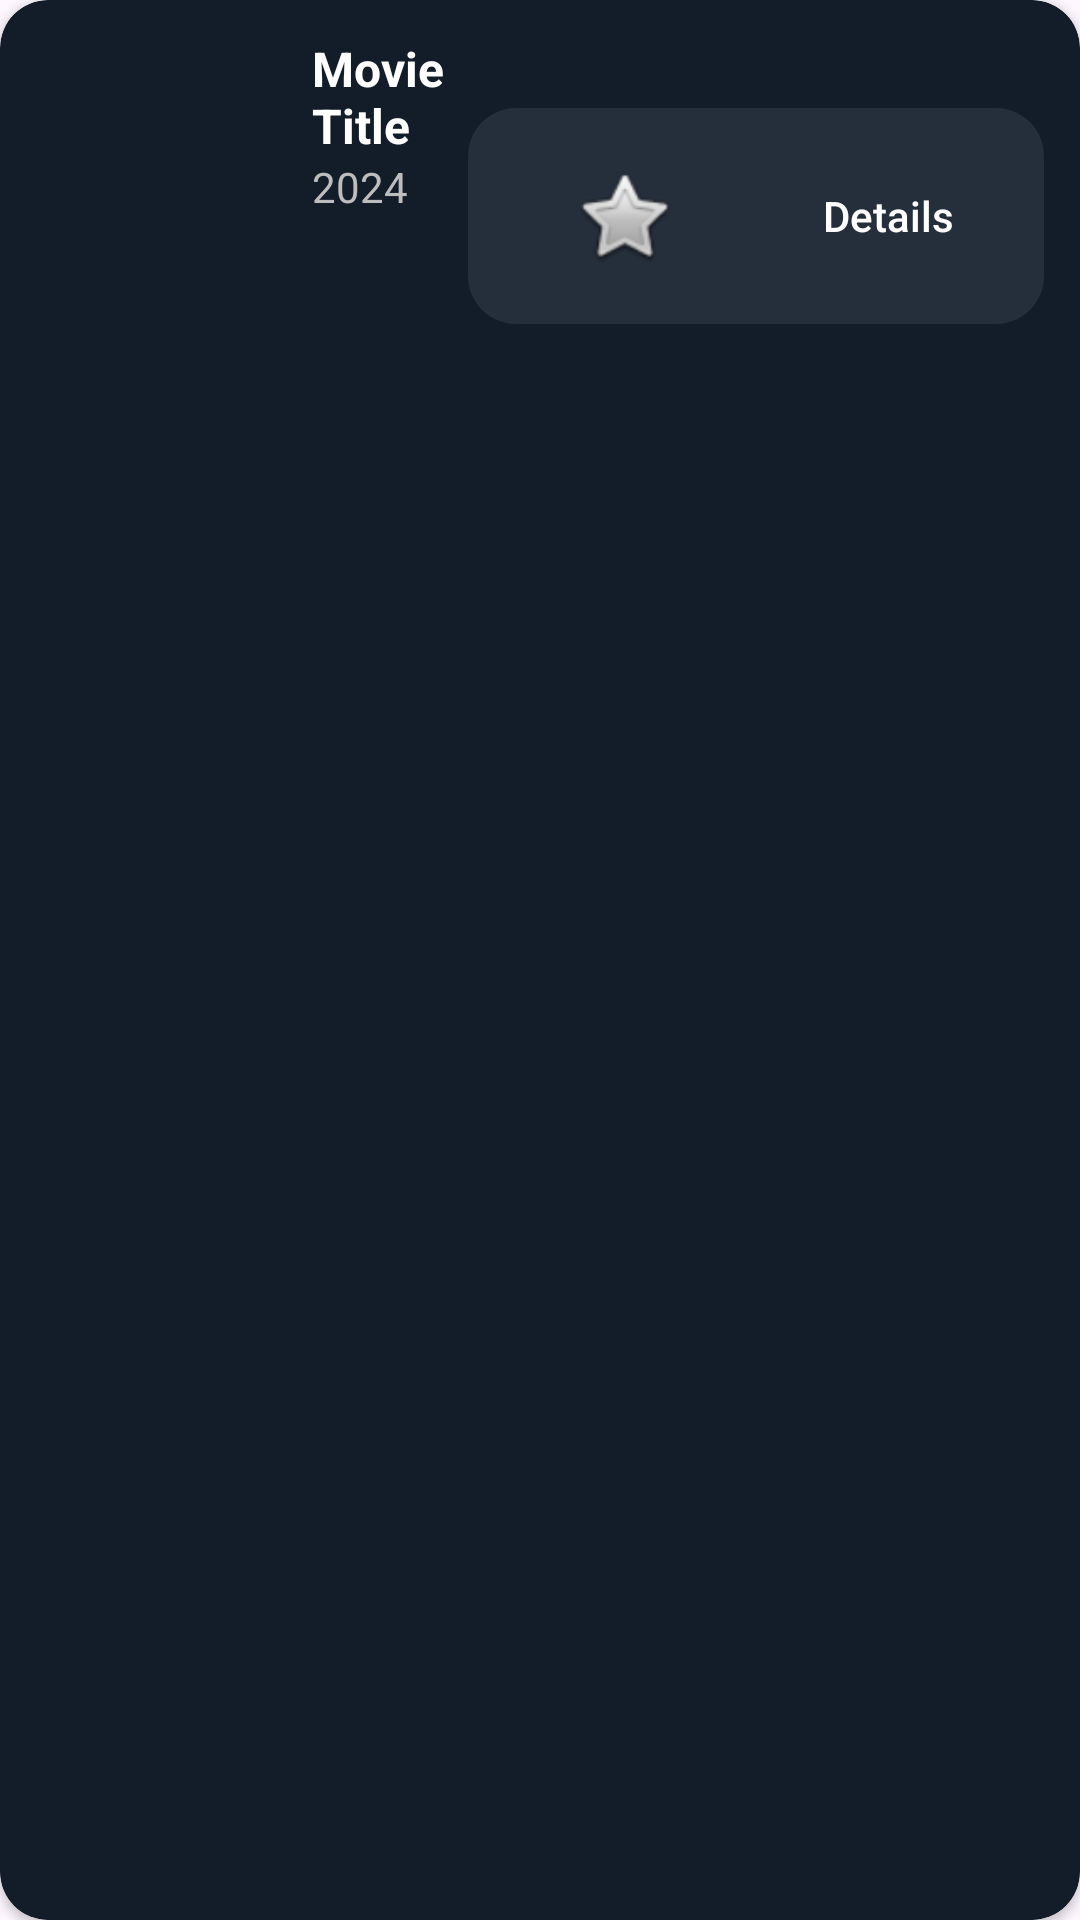

Locate icon controls on the screen. Image size 1080px x 1920px, boxes as box=[x1, y1, x2, y2].
Favourites: box=[582, 175, 668, 257]
